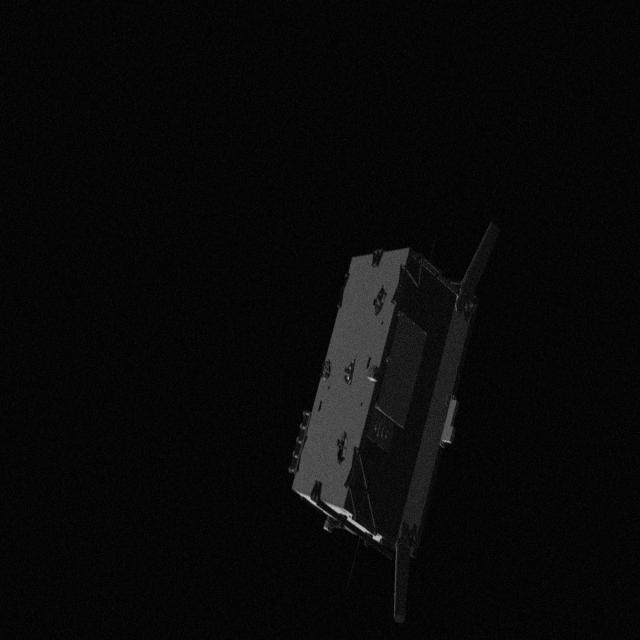satellite: (286, 214, 522, 626)
